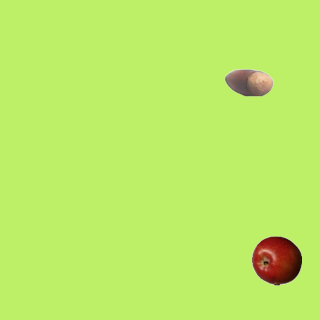Apple Braeburn: (251, 235, 301, 285)
Hazelnut: (223, 57, 273, 107)
